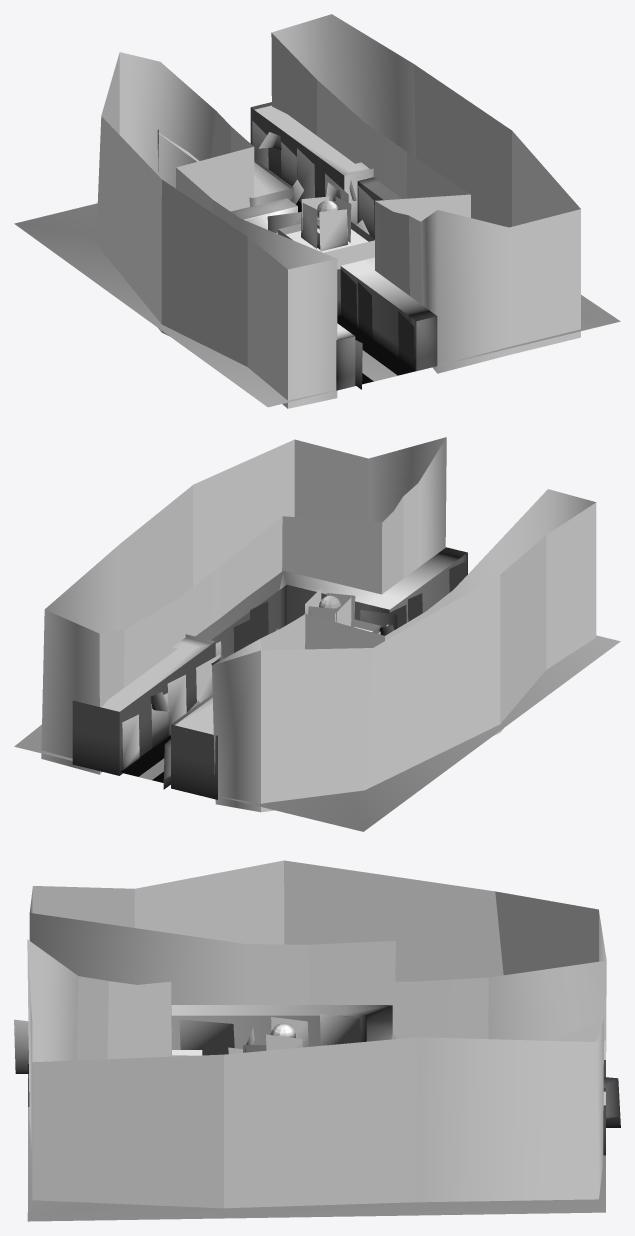
The model's file is cgc_connector_pillarhedge.fbx.
The picture shows the model from 3 angles, top to bottom: view 1: azimuth 30°, elevation 25°; view 2: azimuth 150°, elevation 25°; view 3: azimuth 270°, elevation 25°; orthographic projection. The views are drawn at different scales.
Parts seen in each view (by area): view 1: BackgroundHedges, Vines, Ground, StoneWalls, Hedges, Shadow; view 2: BackgroundHedges, Hedges, Ground, StoneWalls, Vines, Shadow; view 3: BackgroundHedges, Ground, StoneWalls, Vines, Hedges.
Part boxes in pixels (x1,y1,x2,y2): BackgroundHedges: (96, 14, 580, 408); Vines: (252, 121, 414, 389); Ground: (14, 203, 620, 407); StoneWalls: (231, 177, 437, 390); Hedges: (157, 102, 374, 269); Shadow: (296, 201, 415, 385); BackgroundHedges: (41, 437, 596, 812); Hedges: (72, 619, 380, 799); Ground: (14, 635, 620, 831); StoneWalls: (195, 547, 467, 658); Vines: (122, 561, 465, 789); Shadow: (120, 735, 170, 784); BackgroundHedges: (27, 860, 606, 1208); Ground: (27, 1079, 605, 1221); StoneWalls: (28, 1005, 392, 1106); Vines: (14, 1013, 620, 1127); Hedges: (243, 1036, 605, 1154).
Bounding box in the file's own units: 28.16 × 36.35 × 12.49.
